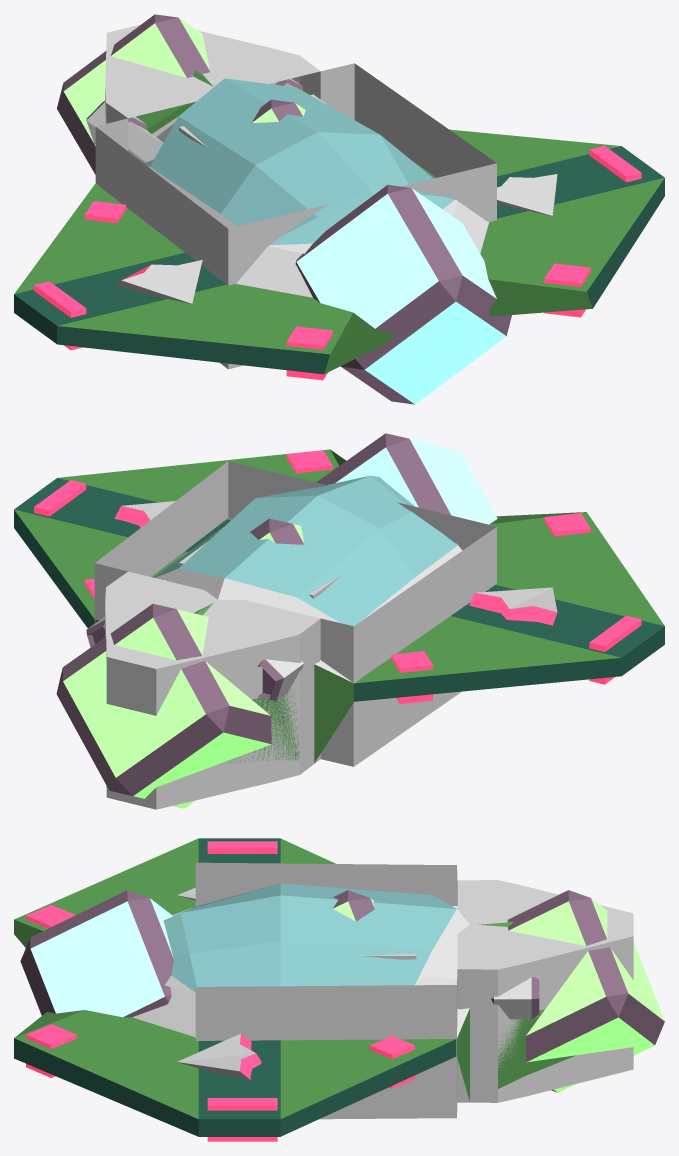
The model's file is PlayerShip.fbx.
3 renders of one model, top to bottom at view 1: azimuth 30°, elevation 25°; view 2: azimuth 150°, elevation 25°; view 3: azimuth 270°, elevation 25°, orthographic. The views are drawn at different scales.
Parts seen in each view (by area): view 1: PlayerShip, Cube.001, IcePickUp.001, EnergyPickUp.001, Cube.002, EnergyPickUp; view 2: PlayerShip, Cube.001, EnergyPickUp.001, IcePickUp.001, Cube.002, EnergyPickUp; view 3: PlayerShip, Cube.001, IcePickUp.001, EnergyPickUp.001, Cube.002, EnergyPickUp.
Boxes of the visible parts, <box> form: PlayerShip: <box>14,78,664,380</box>; Cube.001: <box>95,24,496,369</box>; IcePickUp.001: <box>295,185,511,404</box>; EnergyPickUp.001: <box>57,14,210,174</box>; Cube.002: <box>136,70,592,373</box>; EnergyPickUp: <box>252,99,305,122</box>; PlayerShip: <box>14,449,664,709</box>; Cube.001: <box>94,461,496,809</box>; EnergyPickUp.001: <box>56,603,271,808</box>; IcePickUp.001: <box>316,433,497,524</box>; Cube.002: <box>95,449,585,763</box>; EnergyPickUp: <box>250,518,304,544</box>; PlayerShip: <box>14,838,539,1141</box>; Cube.001: <box>195,862,633,1119</box>; IcePickUp.001: <box>20,890,173,1017</box>; EnergyPickUp.001: <box>507,890,664,1092</box>; Cube.002: <box>14,907,575,1101</box>; EnergyPickUp: <box>332,890,374,921</box>.
Bounding box in the file's own units: 904 × 289 × 885.
